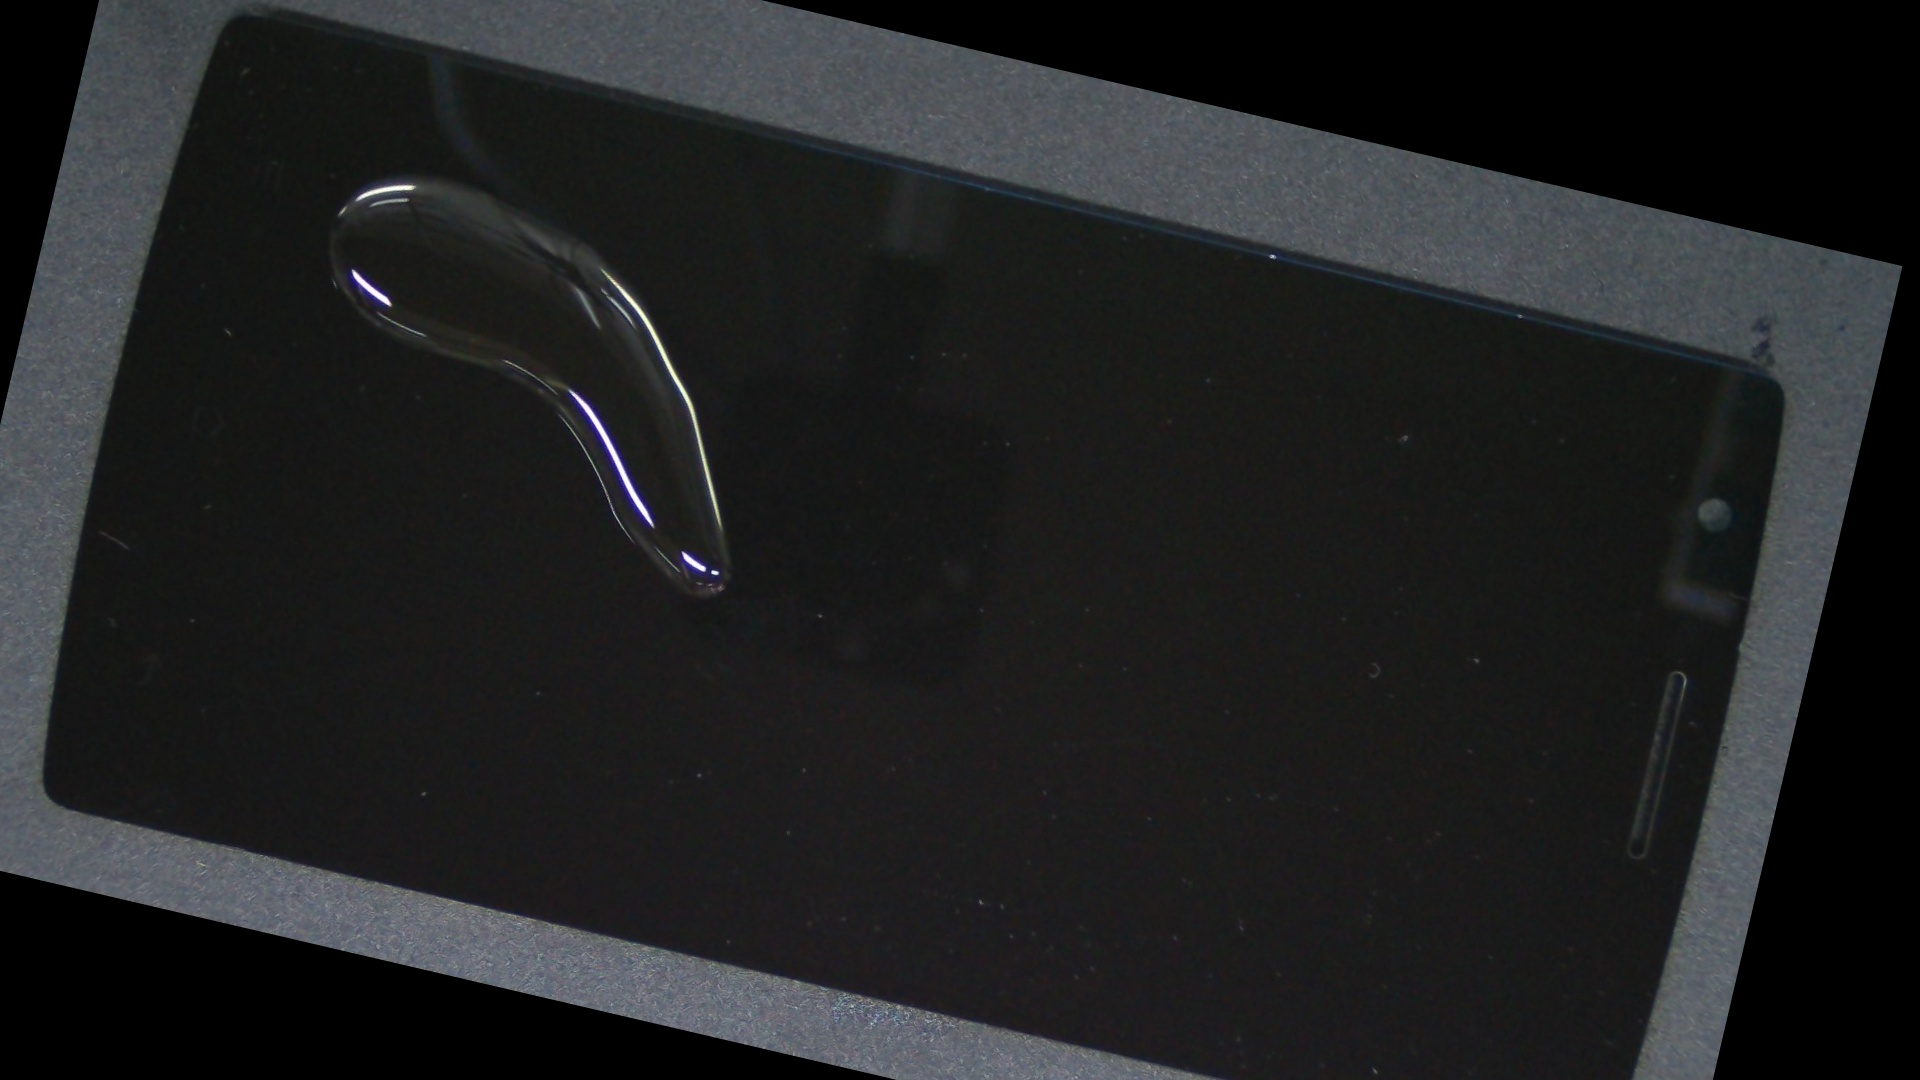oil: (233, 15, 651, 336)
